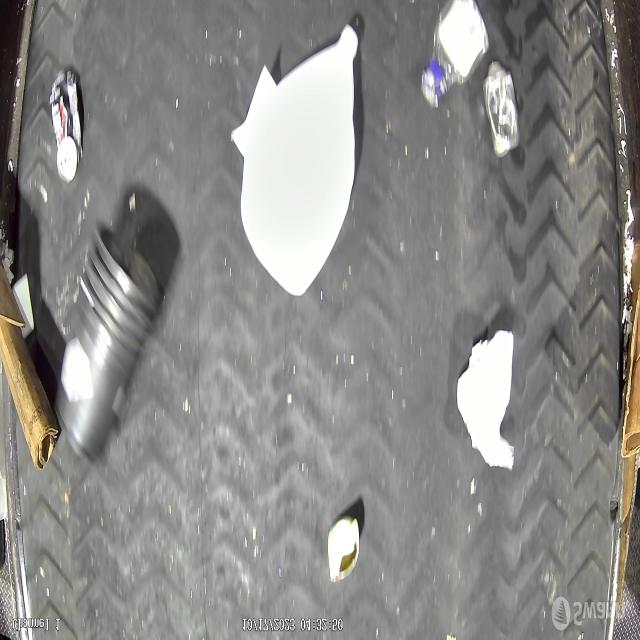can: (484, 60, 522, 159), (51, 71, 84, 183), (327, 511, 363, 584)
milk_jug: (236, 20, 358, 301)
plastic_bottle: (419, 1, 490, 111)
